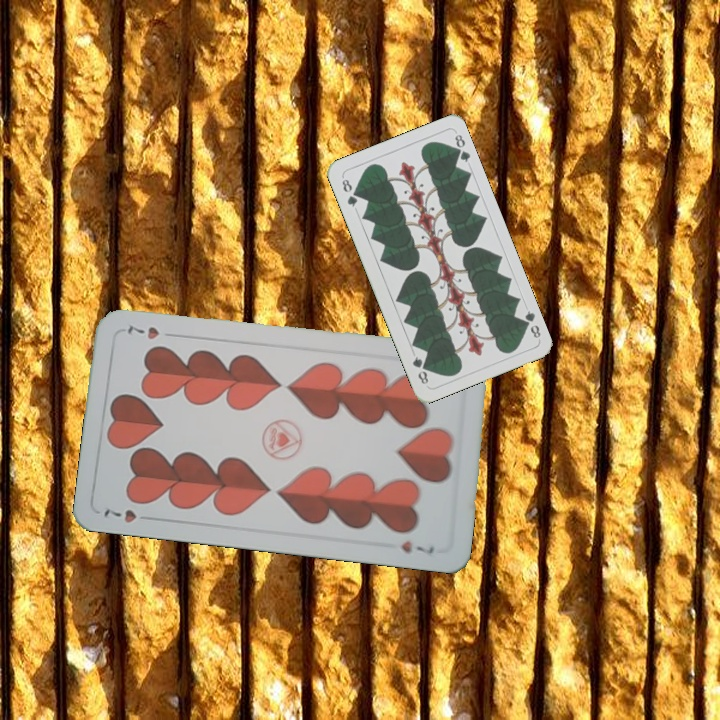G8: (518, 306, 543, 341), (338, 175, 360, 209)
H7: (100, 505, 157, 525)
